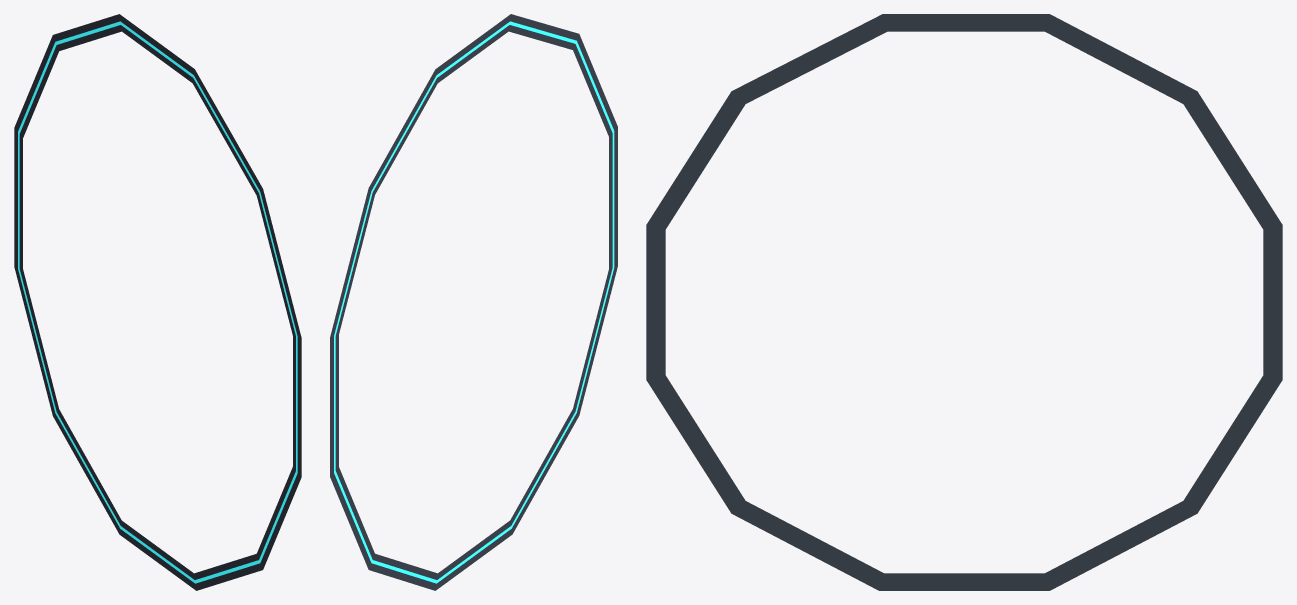
The model's file is blade-city-module-facade.glb.
3 renders of one model, left to right at view 1: azimuth 30°, elevation 25°; view 2: azimuth 150°, elevation 25°; view 3: azimuth 270°, elevation 25°, orthographic. The views are drawn at different scales.
Parts seen in each view (by area): view 1: BC | ceinture octogonale haute, BC | filet cyan dans ceinture; view 2: BC | ceinture octogonale haute, BC | filet cyan dans ceinture; view 3: BC | ceinture octogonale haute.
Boxes of the visible parts, x1,y1,x2,y2 form: BC | ceinture octogonale haute: (14,14,301,590); BC | filet cyan dans ceinture: (18,21,297,583); BC | ceinture octogonale haute: (330,14,617,590); BC | filet cyan dans ceinture: (334,21,614,583); BC | ceinture octogonale haute: (646,14,1282,590).
Bounding box in the file's own units: 0.001 × 3 × 3.
